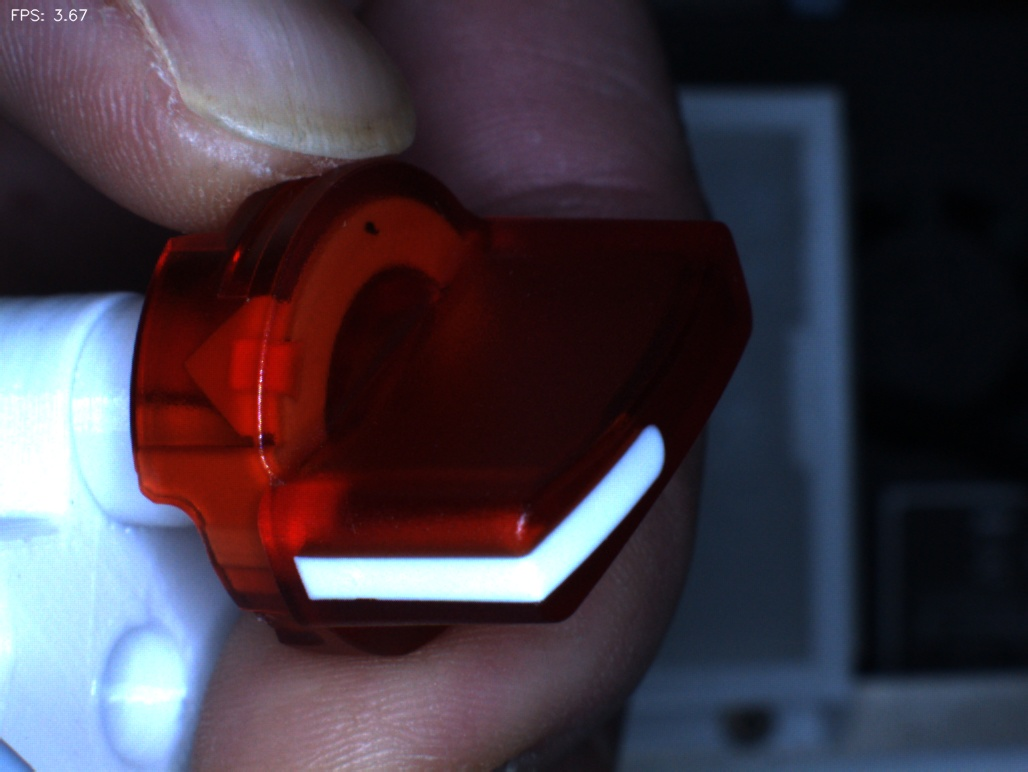PointNoir: (332, 193, 405, 267)
